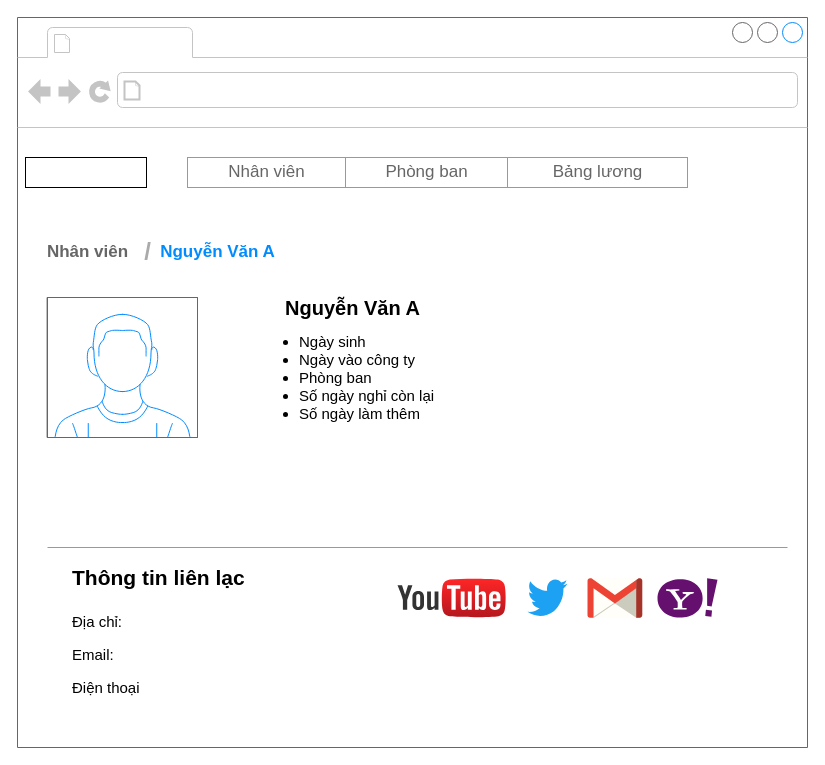
The diagram is 825 pixels wide and 765 high, and some of its shapes have lost their labels. The shapes that lost their labels are listed below. From the top down, each one's box as (x1, y1, x2, y2) in pixels, then its label:
(76, 28, 188, 56): Page 1
(146, 76, 398, 104): https://localhost:3000/staff/0
(24, 156, 146, 188): Logo
